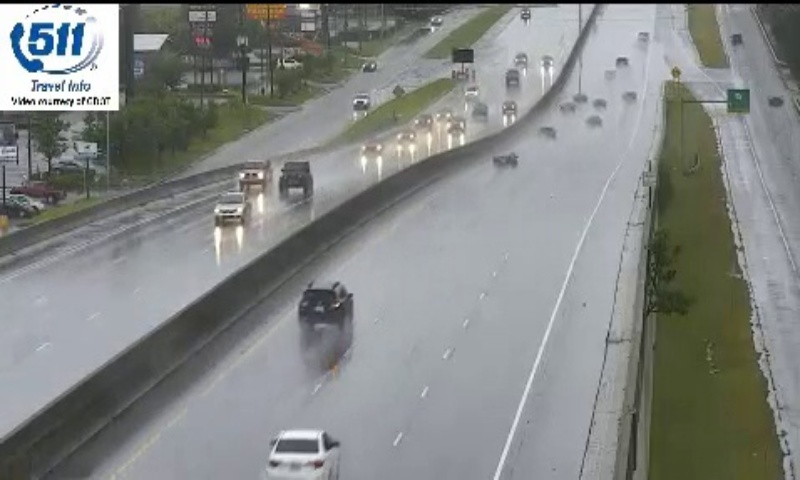car: (264, 430, 341, 480), (297, 280, 351, 327)
